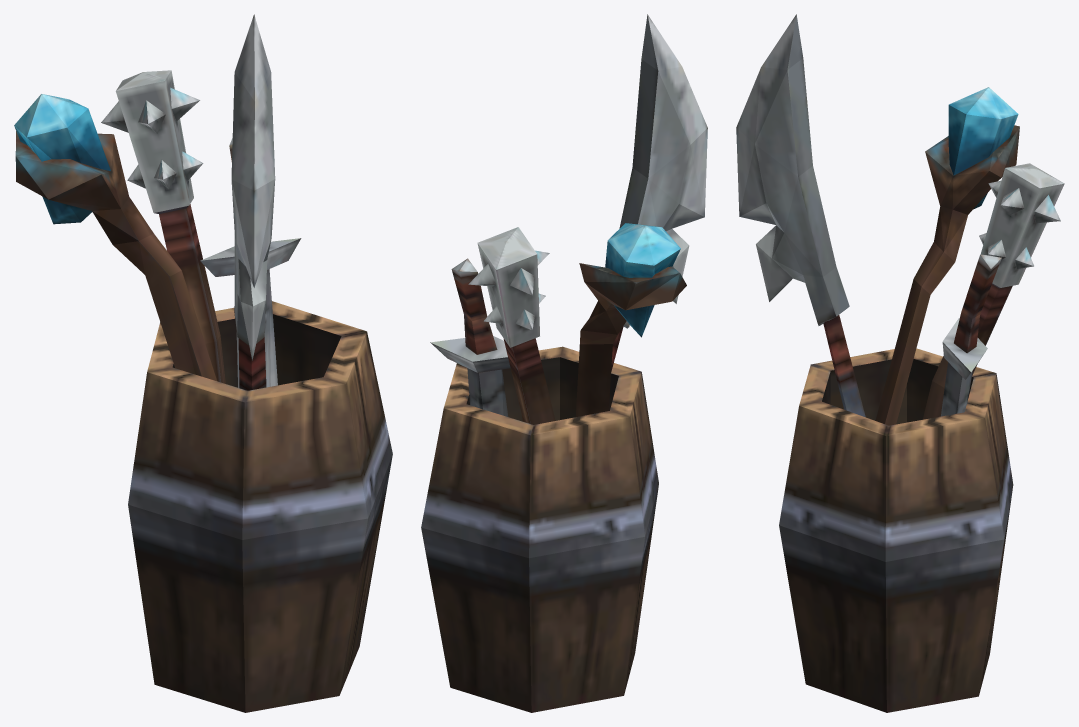
Rendered from weaponbarrel.fbx.
3 renders of one model, left to right at view 1: azimuth 30°, elevation 25°; view 2: azimuth 150°, elevation 25°; view 3: azimuth 270°, elevation 25°, orthographic. The views are drawn at different scales.
Visible parts, largest first — view 1: obj0.176; view 2: obj0.176; view 3: obj0.176.
Boxes of the visible parts, left/top/right/bottom form: obj0.176: left=14, top=14, right=392, bottom=712; obj0.176: left=421, top=14, right=707, bottom=712; obj0.176: left=736, top=14, right=1064, bottom=712.
Bounding box in the file's own units: 1.44 × 2.99 × 1.41.
